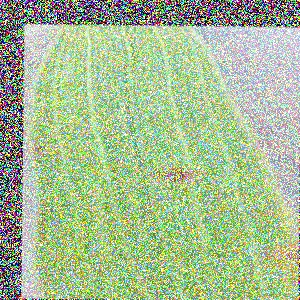Bacterial_Leaf_Blight: (146, 159, 197, 192), (264, 242, 300, 268), (283, 245, 300, 265), (115, 59, 139, 73), (32, 141, 52, 155), (255, 206, 272, 220), (264, 250, 281, 260), (276, 259, 287, 266)
